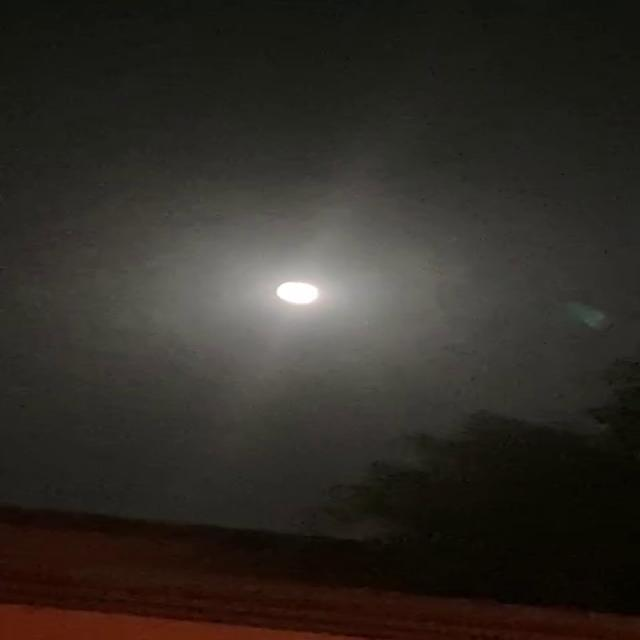moon: (270, 268, 328, 300)
